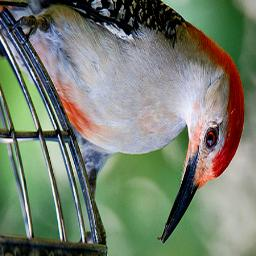Woodpecker: (0, 0, 244, 242)
